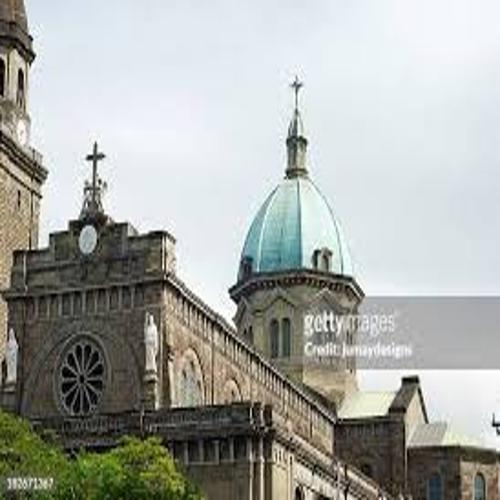Manila Cathedral Church: (10, 50, 395, 486)
